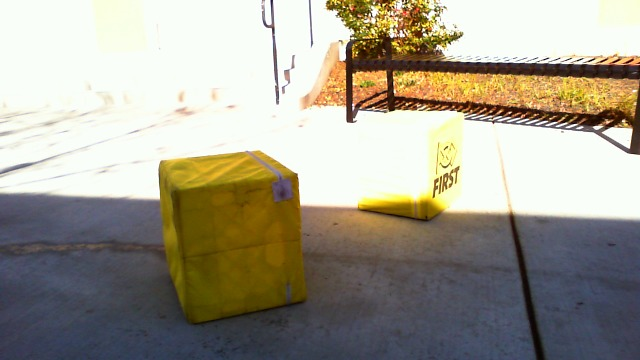cube: (158, 150, 305, 328), (351, 109, 464, 221)
